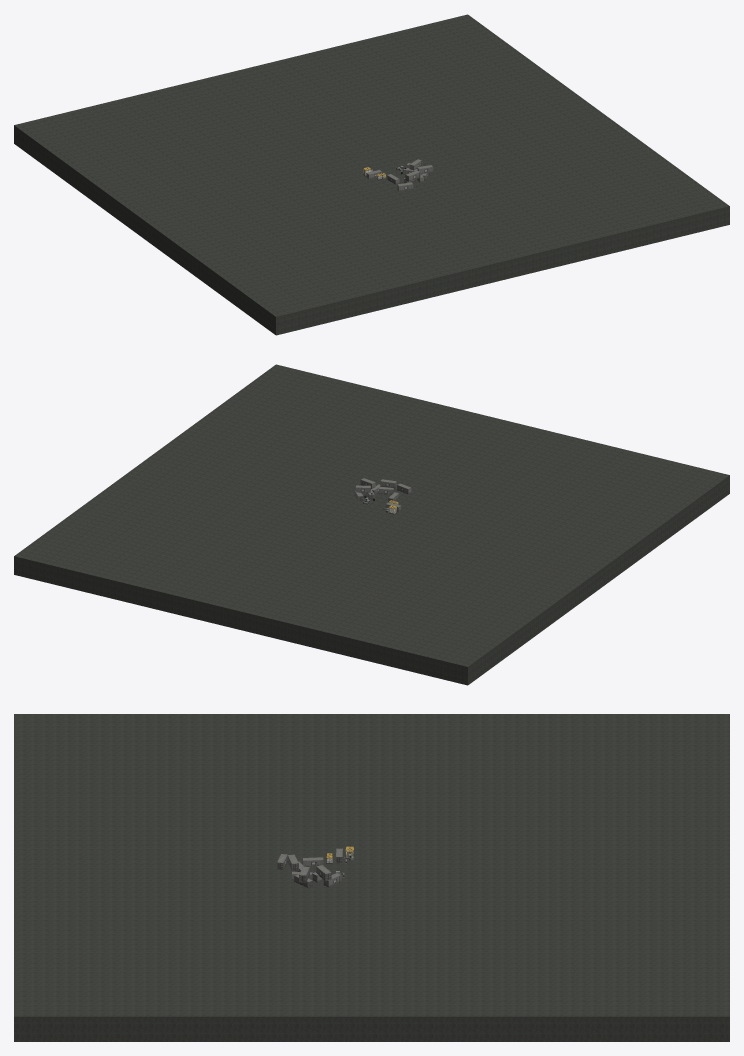
Rendered from skibidi-toilet-79.glb.
3 views of the same model, one above another, from view 1: azimuth 30°, elevation 25°; view 2: azimuth 150°, elevation 25°; view 3: azimuth 270°, elevation 25° (orthographic). The views are drawn at different scales.
Parts seen in each view (by area): view 1: material_3; view 2: material_3; view 3: material_3.
Part boxes in pixels (x1,y1,x2,y2): material_3: [14, 14, 729, 335]; material_3: [14, 364, 729, 685]; material_3: [14, 714, 729, 1041].
Size of the model in its own units: 256 by 15.7 by 256.
36 materials, 33 textured.
